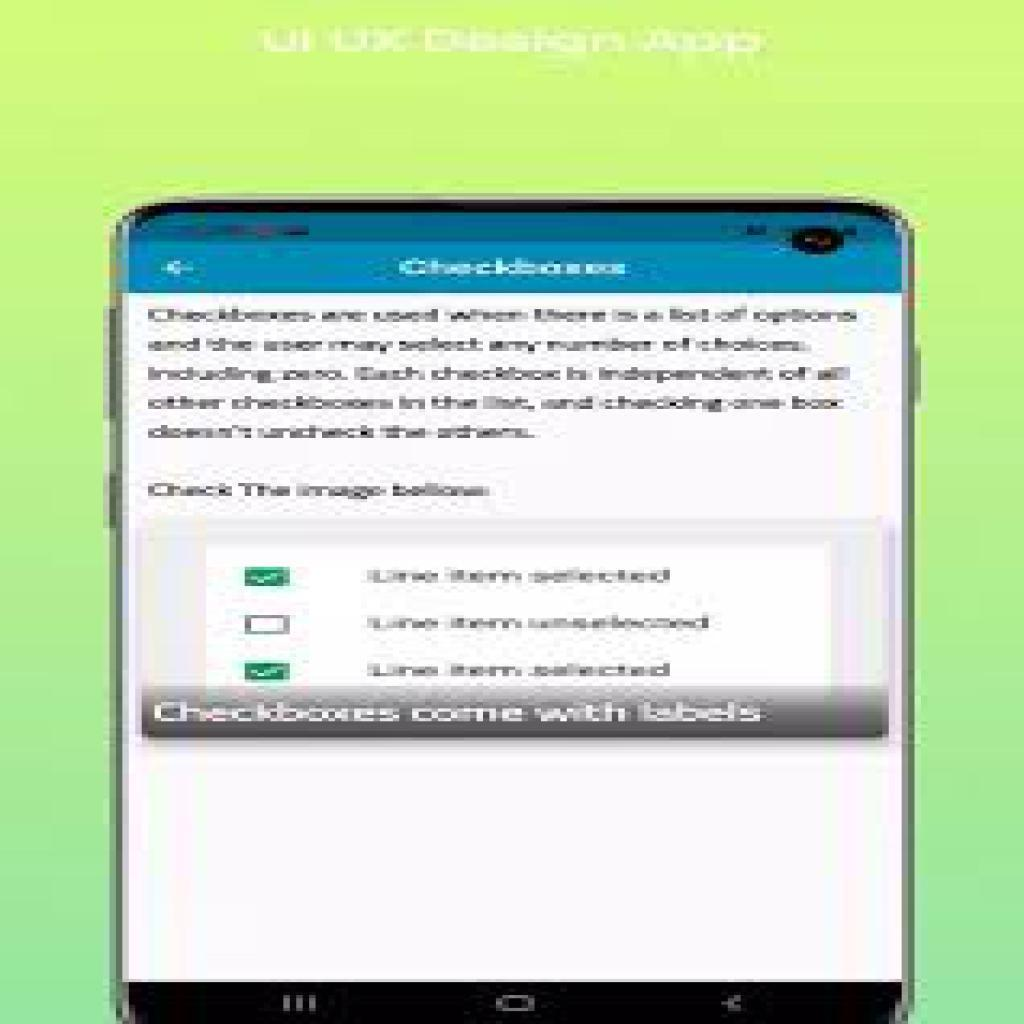checkbox: (245, 566, 293, 589), (243, 664, 292, 682), (245, 616, 293, 634)
